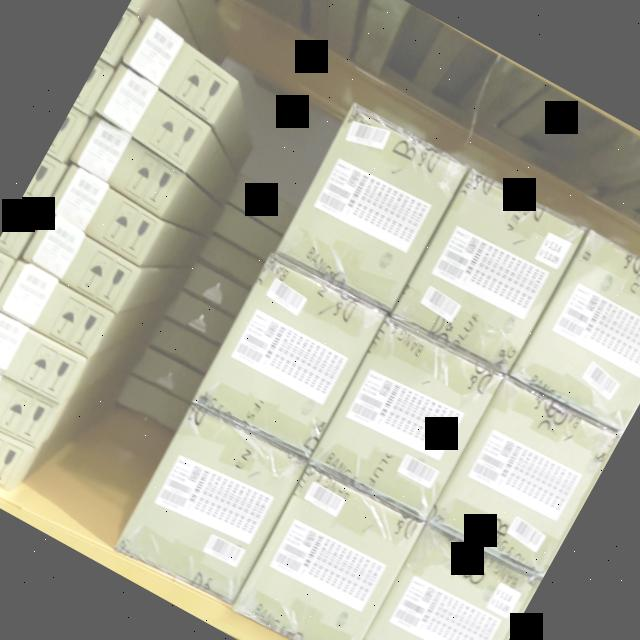box: (273, 100, 471, 312), (115, 398, 309, 606), (194, 254, 386, 459), (394, 169, 586, 374), (428, 374, 620, 578), (314, 312, 503, 513), (232, 463, 425, 640), (508, 229, 640, 438), (350, 521, 539, 640), (117, 14, 245, 124), (41, 164, 166, 270), (91, 62, 215, 168), (66, 114, 188, 218), (0, 255, 117, 358), (19, 211, 139, 310), (0, 305, 88, 412), (0, 353, 60, 457), (0, 400, 30, 494)
